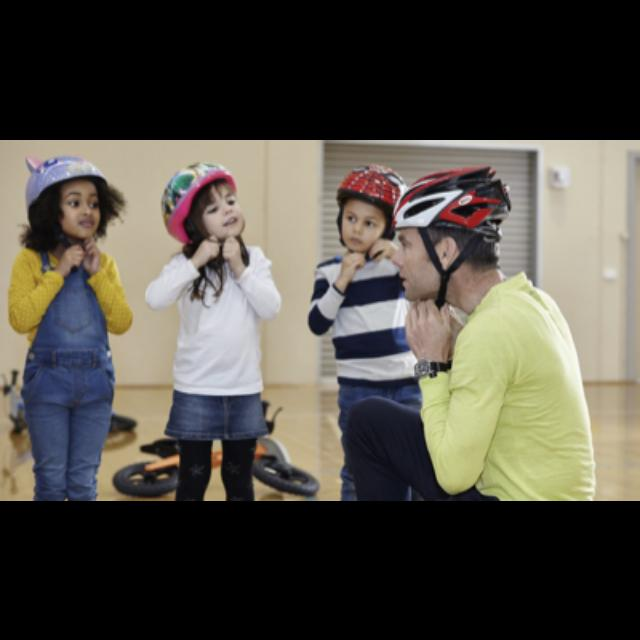With Helmet: (392, 153, 506, 313), (149, 154, 253, 252), (19, 152, 117, 248), (329, 156, 396, 262)
